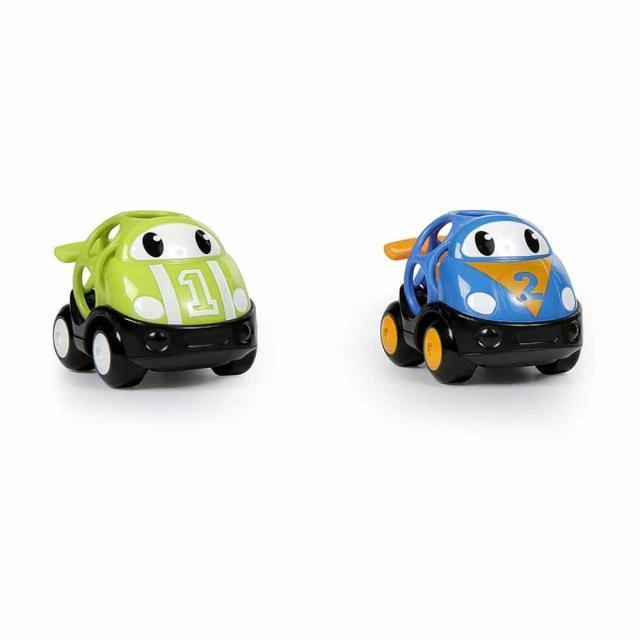hard-toy: (52, 212, 255, 388), (381, 212, 581, 383)
